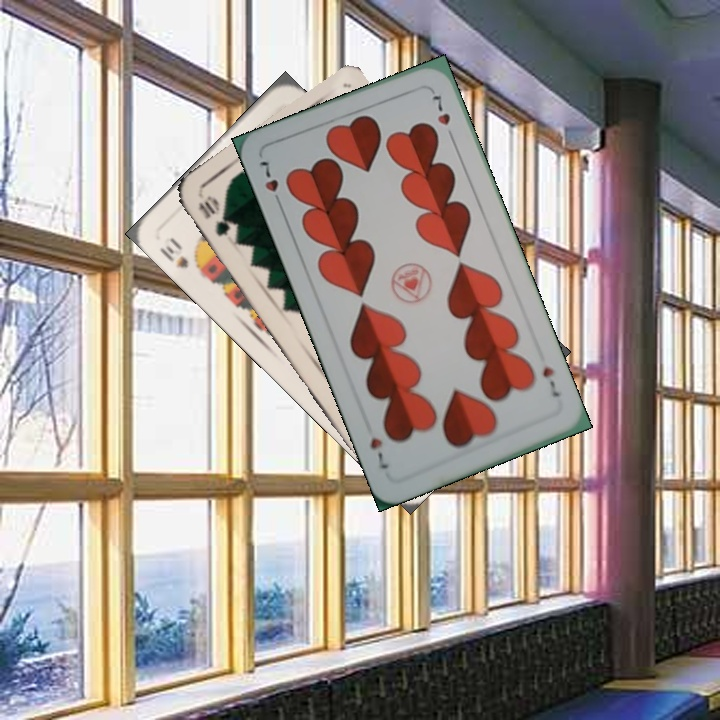G10: (194, 191, 233, 239)
H7: (255, 157, 286, 210), (538, 363, 563, 400)
S10: (156, 233, 206, 276)
